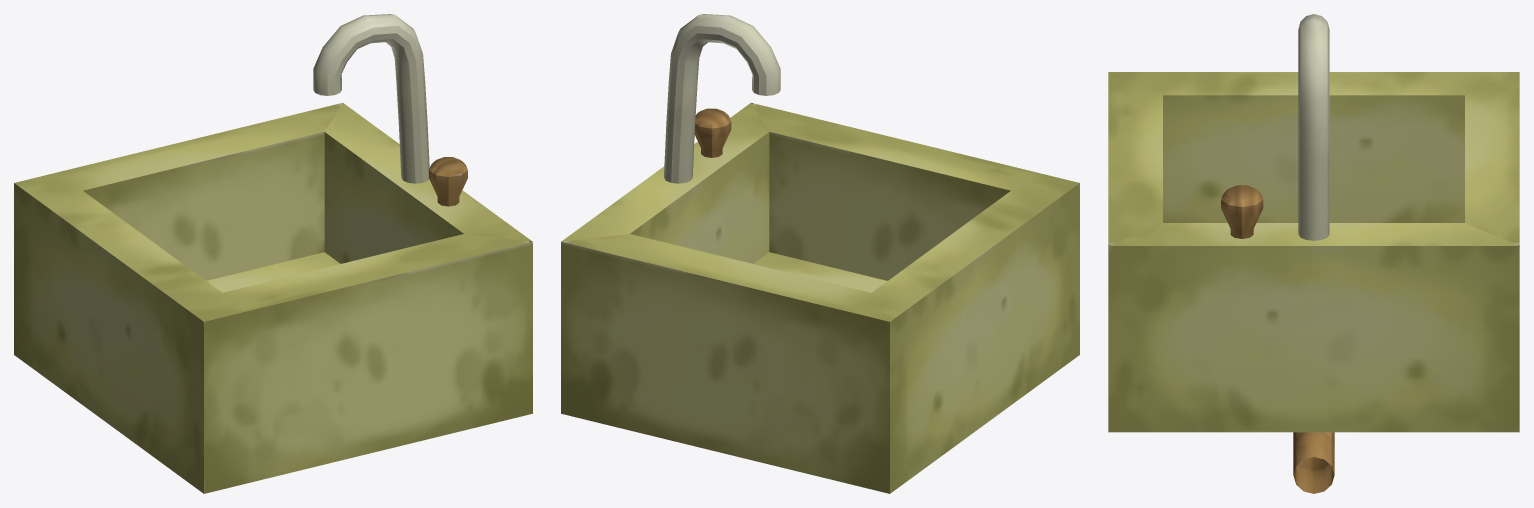
File: Sink.fbx
The picture shows the model from 3 angles, left to right: view 1: azimuth 30°, elevation 25°; view 2: azimuth 150°, elevation 25°; view 3: azimuth 270°, elevation 25°; orthographic projection. The views are drawn at different scales.
Visible parts, largest first — view 1: Faucet; view 2: Faucet; view 3: Faucet.
Boxes of the visible parts, box(x1,y1,x2,y2) form: Faucet: box(14, 14, 532, 493); Faucet: box(561, 14, 1079, 493); Faucet: box(1108, 14, 1519, 493).
Bounding box in the file's own units: 60 × 73.68 × 60.
